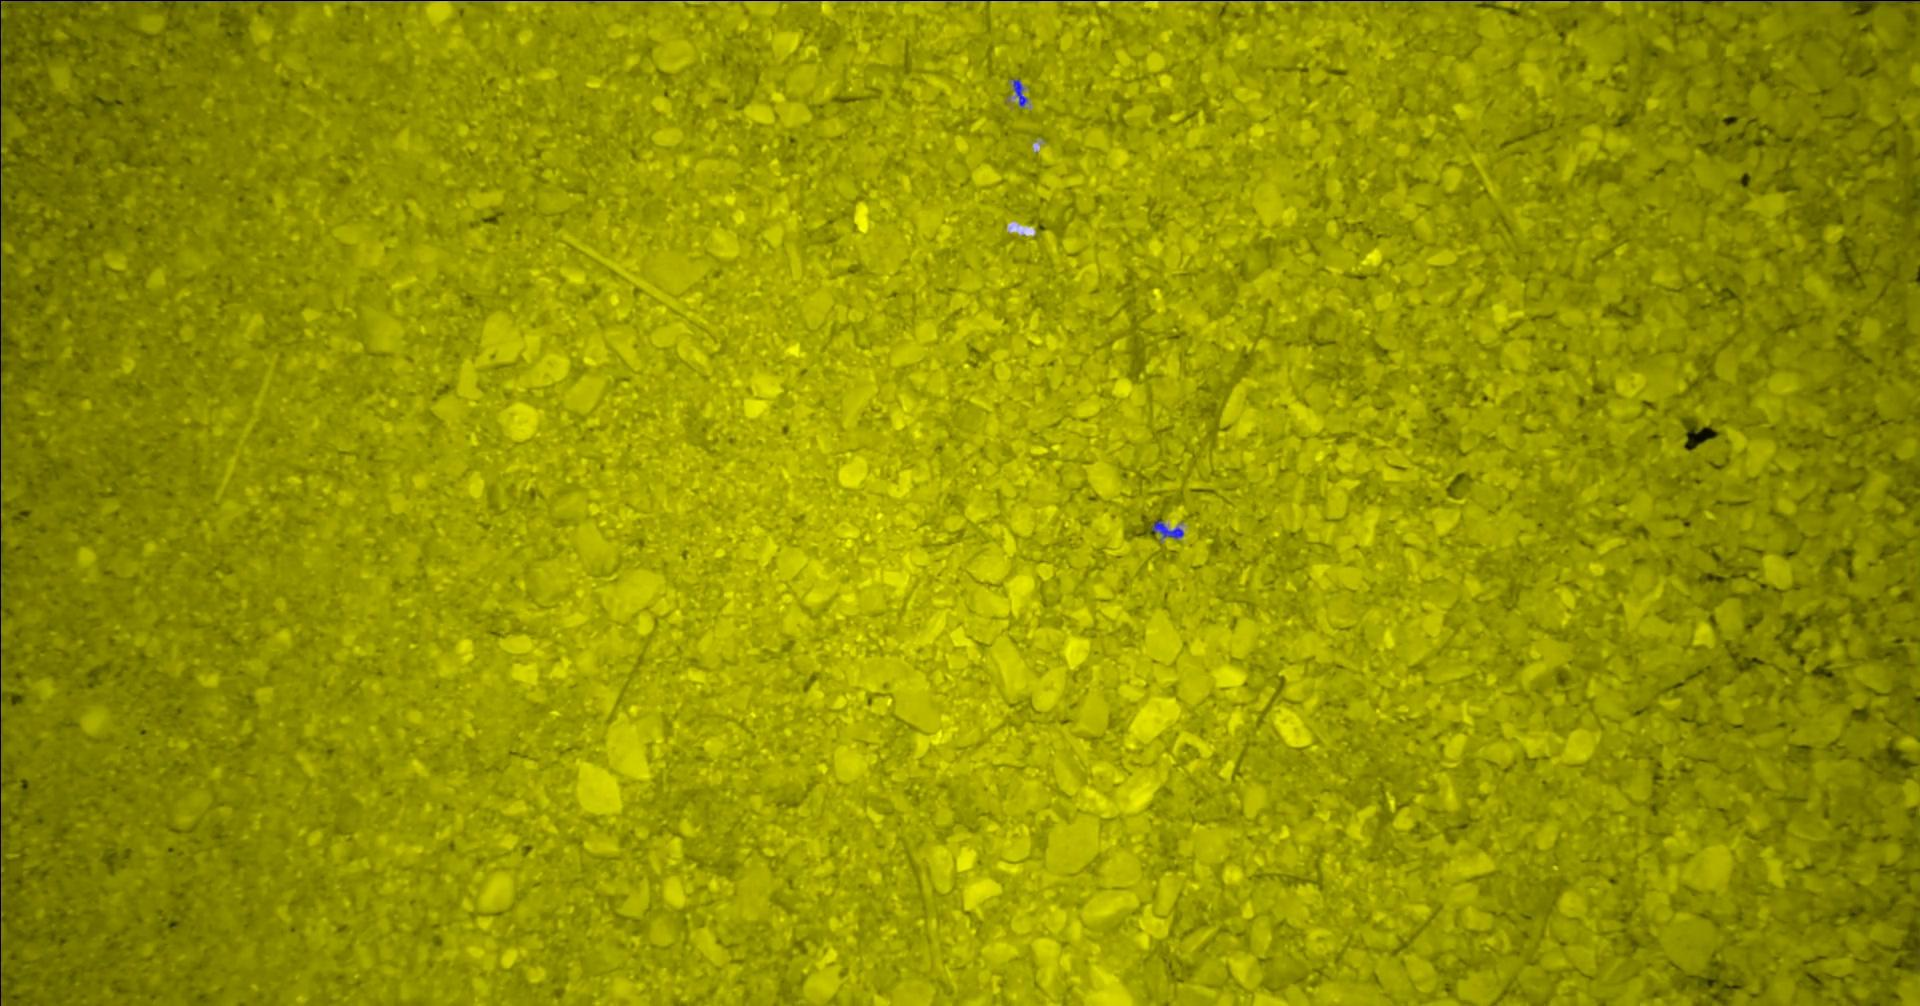ant: (1153, 520, 1185, 539), (1015, 79, 1029, 105)
